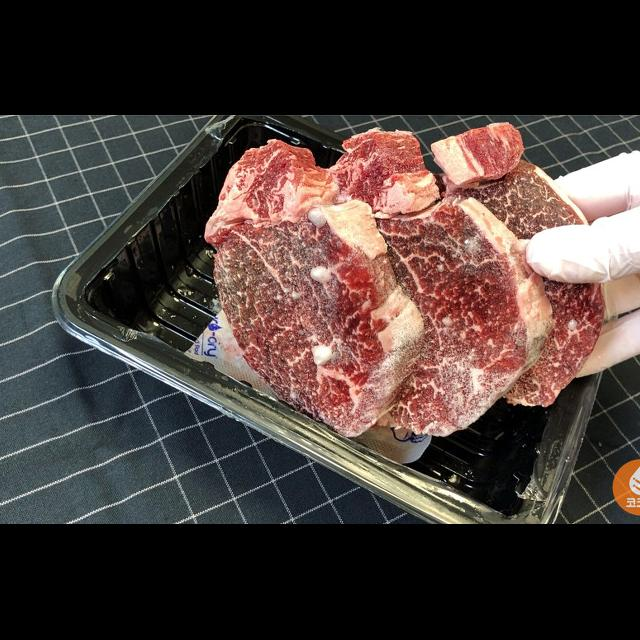beef: (325, 129, 553, 434), (203, 137, 426, 440), (429, 121, 606, 408)
